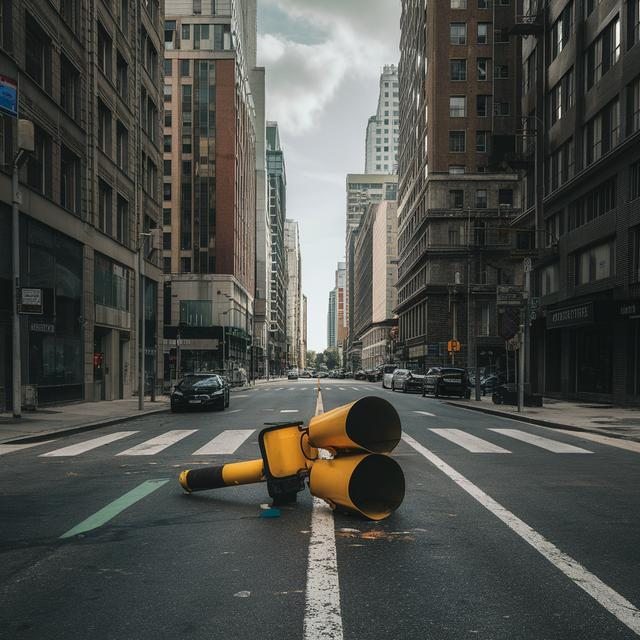Inclined Pole: (174, 394, 418, 534)
